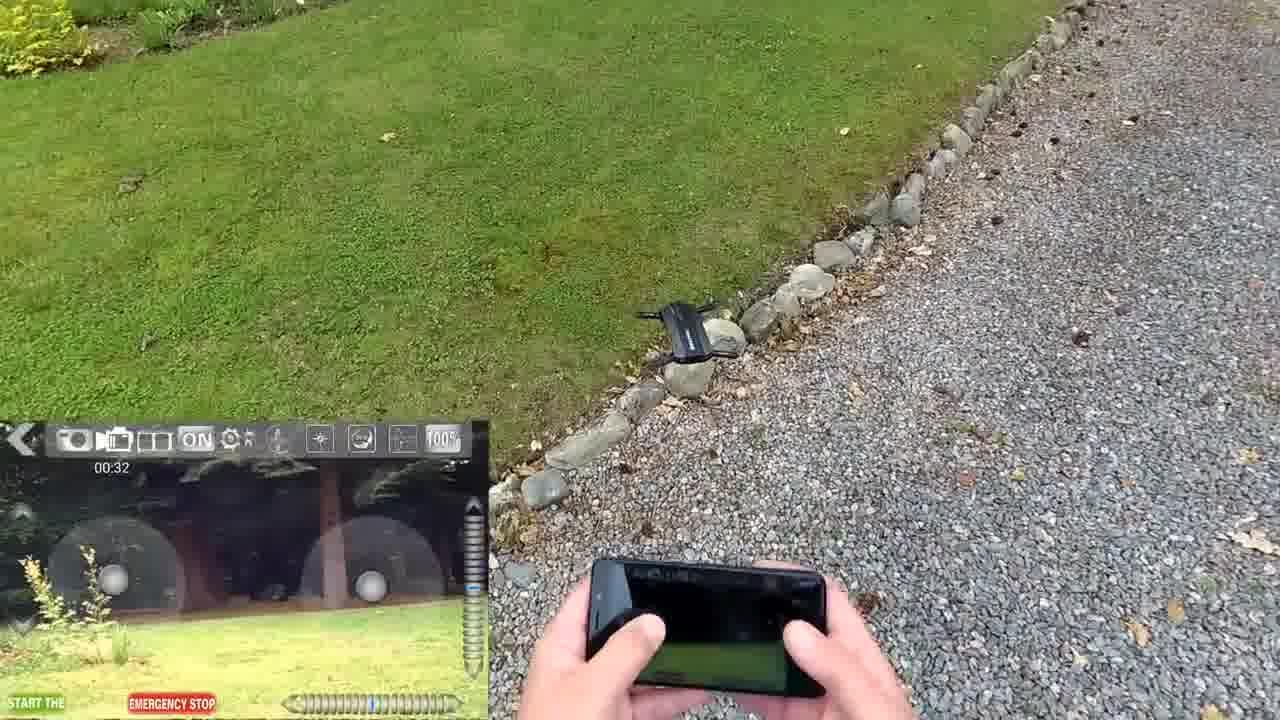drone: (627, 293, 764, 369)
